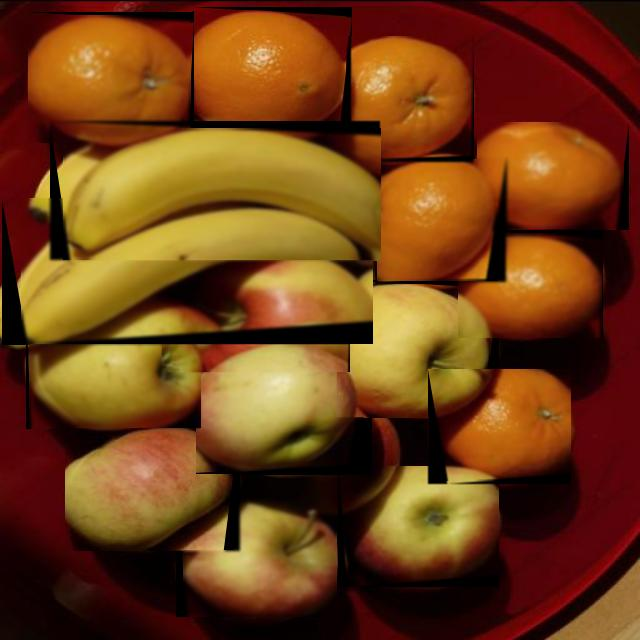Apple: (197, 340, 364, 471), (66, 429, 234, 550), (29, 311, 201, 428), (338, 285, 490, 417), (162, 271, 350, 372), (184, 493, 337, 617), (343, 466, 498, 582)
Banana: (21, 199, 373, 344), (63, 128, 381, 260)
Orange: (28, 16, 191, 142), (326, 37, 473, 160), (193, 11, 346, 127), (477, 123, 624, 229), (459, 233, 602, 338), (437, 370, 571, 481), (378, 159, 498, 281)
